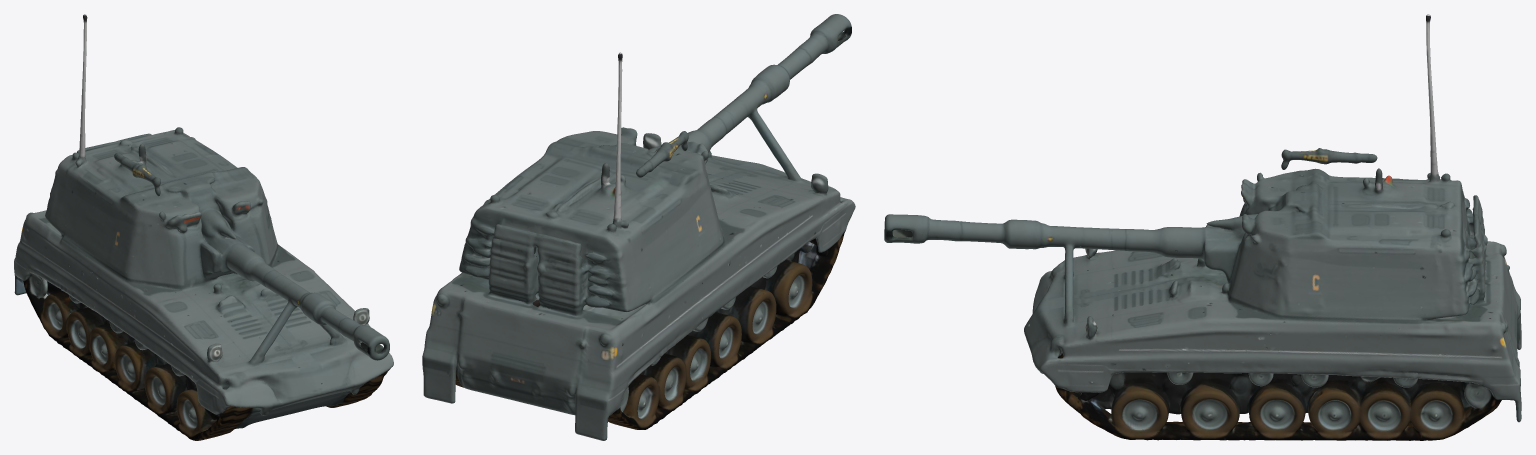
3 views of the same model, side by side, from view 1: azimuth 30°, elevation 25°; view 2: azimuth 150°, elevation 25°; view 3: azimuth 270°, elevation 25° (orthographic). The views are drawn at different scales.
Visible parts, largest first — view 1: tripo_node_651b7bc6-d777-4df0-91e2-b146ecff7b06; view 2: tripo_node_651b7bc6-d777-4df0-91e2-b146ecff7b06; view 3: tripo_node_651b7bc6-d777-4df0-91e2-b146ecff7b06.
Part boxes in pixels (x1,y1,x2,y2): tripo_node_651b7bc6-d777-4df0-91e2-b146ecff7b06: [14, 14, 393, 440]; tripo_node_651b7bc6-d777-4df0-91e2-b146ecff7b06: [422, 14, 855, 440]; tripo_node_651b7bc6-d777-4df0-91e2-b146ecff7b06: [884, 14, 1521, 440].
Size of the model in its own units: 0.3213 by 0.5866 by 0.9496.
1 material, 1 textured.
